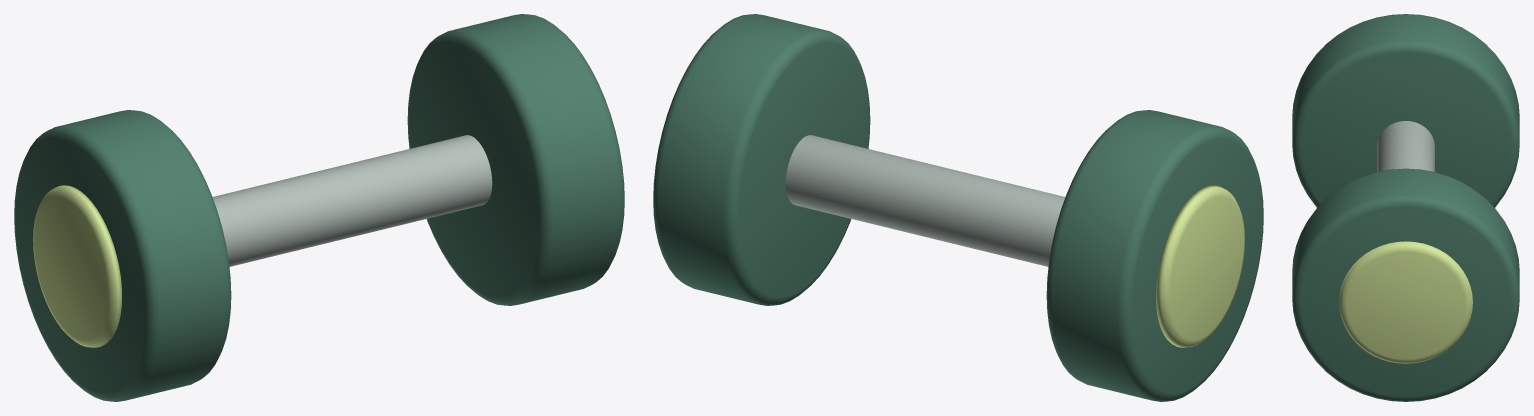
The model's file is dumbbell.glb.
3 views of the same model, side by side, from view 1: azimuth 30°, elevation 25°; view 2: azimuth 150°, elevation 25°; view 3: azimuth 270°, elevation 25° (orthographic). The views are drawn at different scales.
Visible parts, largest first — view 1: Weight plate.001, Weight plate, Grip, Lime endcap; view 2: Weight plate.001, Weight plate, Grip, Lime endcap; view 3: Weight plate, Weight plate.001, Lime endcap.001, Grip.
Boxes of the visible parts, x1,y1,x2,y2 form: Weight plate.001: [407, 14, 624, 305]; Weight plate: [14, 110, 231, 401]; Grip: [212, 135, 492, 266]; Lime endcap: [33, 185, 121, 347]; Weight plate.001: [653, 14, 870, 305]; Weight plate: [1046, 110, 1263, 401]; Grip: [785, 135, 1065, 266]; Lime endcap: [1156, 185, 1244, 347]; Weight plate: [1292, 14, 1519, 207]; Weight plate.001: [1292, 168, 1519, 401]; Lime endcap.001: [1339, 241, 1472, 363]; Grip: [1377, 121, 1434, 171].
Size of the model in its own units: 2.07 by 1.02 by 1.02.
